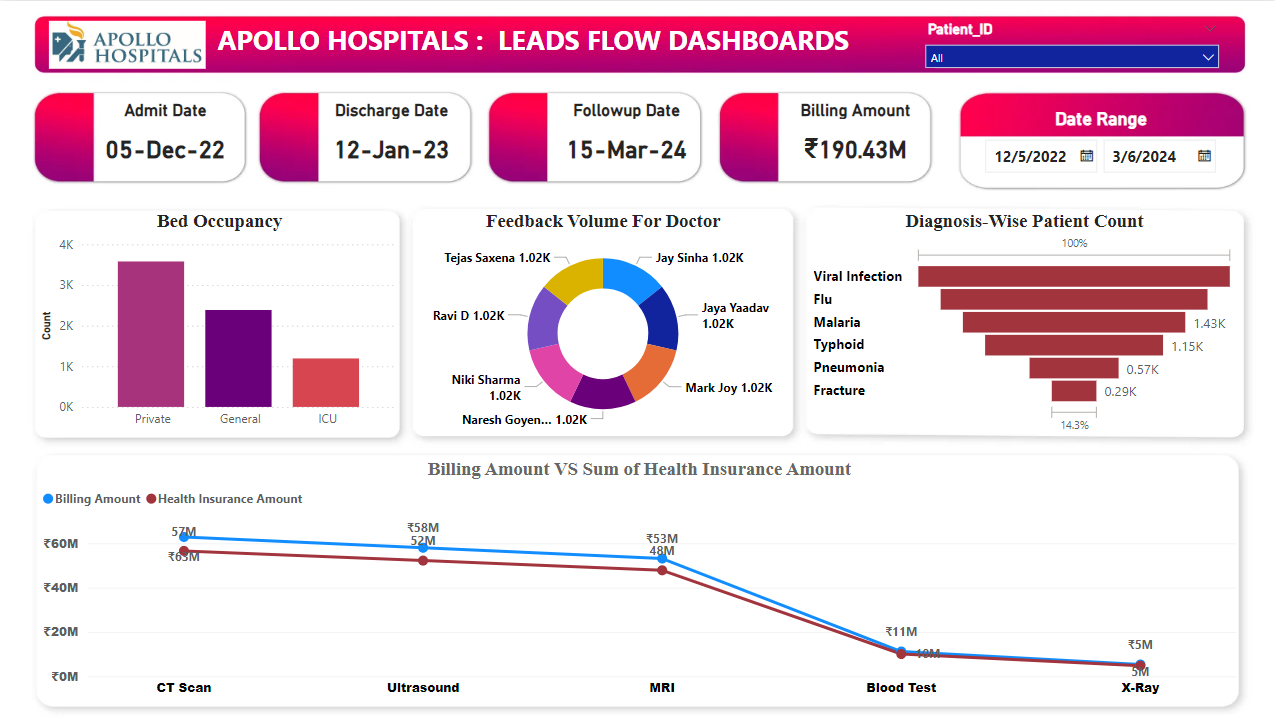

Layout of this report page (visuals, bound fields, positions):
{"tool":"powerbi","page":{"name":"Page 1","canvas":[1280,720],"ordinal":0},"visuals":[{"type":"image","box":[21.9,15,210,58.1],"z":0},{"type":"textbox","box":[213.1,15.5,667.9,58.3],"z":1000},{"type":"slicer","fields":{"Values":["Sheet1.Patient_ID"]},"box":[915.5,15.5,314.3,53.6],"z":2000},{"type":"card","title":"Admit Date","fields":{"Values":["Sheet1.Admit_Date"]},"box":[85.7,98.8,158.3,79.8],"z":3000},{"type":"card","title":"Discharge Date","fields":{"Values":["Sheet1.Discharge_Date"]},"box":[313.1,98.8,158.3,79.8],"z":4000},{"type":"card","title":"Followup Date","fields":{"Values":["Sheet1.Followup Date"]},"box":[547.6,98.8,158.3,79.8],"z":5000},{"type":"card","title":"Billing Amount","fields":{"Values":["Sheet1.Billing Amount"]},"box":[776.2,98.8,158.3,79.8],"z":6000},{"type":"slicer","title":"Date Range","fields":{"Values":["Sheet1.Admit_Date"]},"box":[972.6,107.1,257.1,71.4],"z":7000},{"type":"columnChart","title":"Bed Occupancy","fields":{"Category":["Sheet1.Bed_Occupancy"],"Y":["Sheet1.Bed_Occupancy"]},"box":[35.7,208.3,366.7,227.4],"z":8000},{"type":"donutChart","title":"Feedback Volume For Doctor","fields":{"Category":["Sheet1.Doctor"],"Y":["Sheet1.Doctor"]},"box":[411.2,208.8,383.8,227.5],"z":9000},{"type":"funnel","title":"Diagnosis-Wise Patient Count","fields":{"Category":["Sheet1.Diagnosis"],"Y":["Sheet1.Diagnosis"]},"box":[808.8,208.8,431.2,227.5],"z":10000},{"type":"lineChart","title":"Billing Amount VS Sum of Health Insurance Amount ","fields":{"Y":["Sheet1.Billing Amount","Sheet1.Health Insurance Amount"],"Category":["Sheet1.Test"]},"box":[37.5,457.5,1203.8,250],"z":11000}]}

Visuals, with their boxes in screenshot pixels (x1, y1, x2, y2), scaled from the page's 1280x720 canvas onto the 1275x721 screenshot:
image: select_region(22, 15, 231, 73)
textbox: select_region(212, 16, 878, 74)
slicer - Sheet1.Patient_ID: select_region(912, 16, 1225, 69)
"Admit Date" card: select_region(85, 99, 243, 179)
"Discharge Date" card: select_region(312, 99, 470, 179)
"Followup Date" card: select_region(545, 99, 703, 179)
"Billing Amount" card: select_region(773, 99, 931, 179)
"Date Range" slicer: select_region(969, 107, 1225, 179)
"Bed Occupancy" columnChart: select_region(36, 209, 401, 436)
"Feedback Volume For Doctor" donutChart: select_region(410, 209, 792, 437)
"Diagnosis-Wise Patient Count" funnel: select_region(806, 209, 1235, 437)
"Billing Amount VS Sum of Health Insurance Amount " lineChart: select_region(37, 458, 1236, 708)
